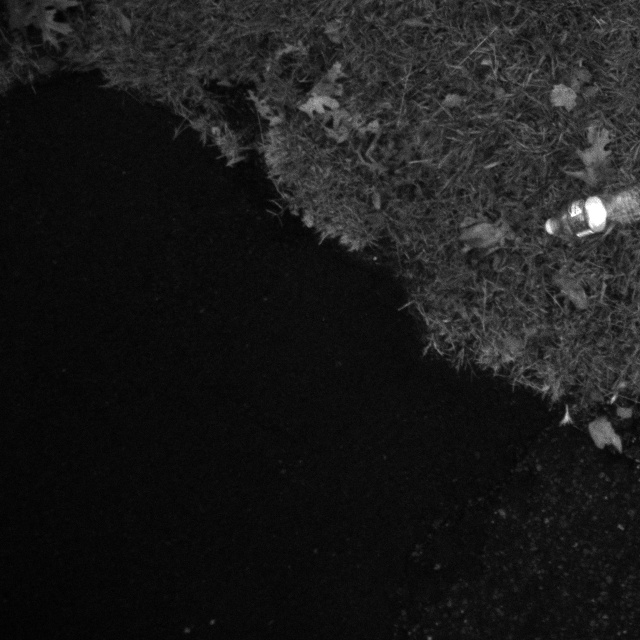bottle: (535, 168, 640, 257)
